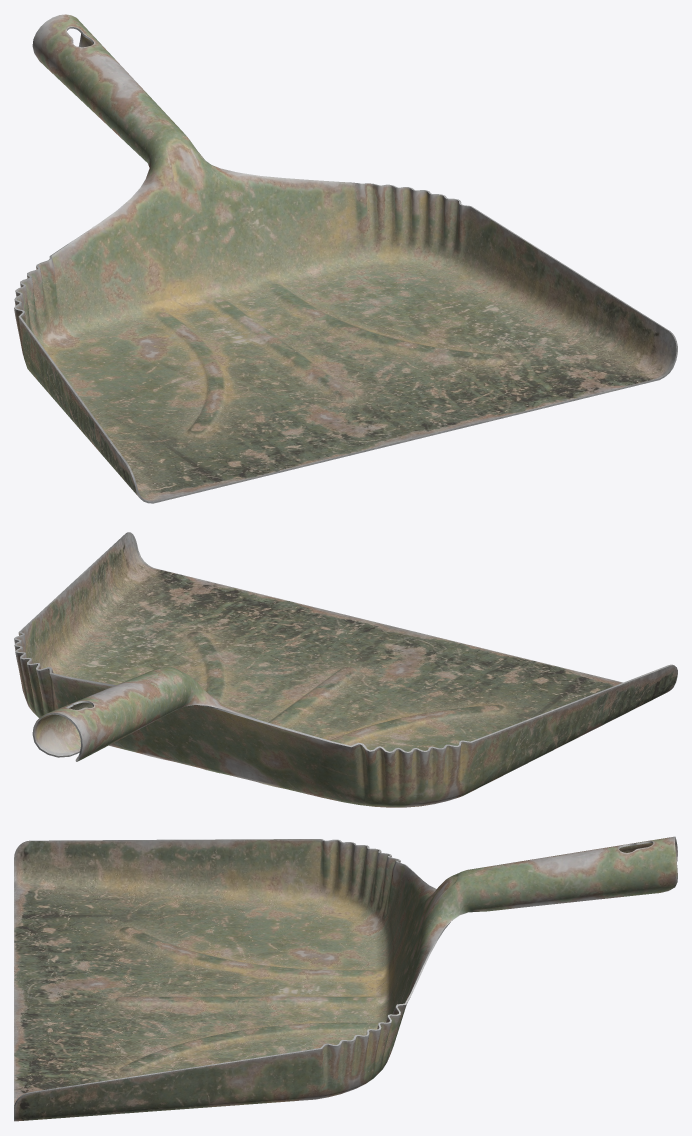
File: ph_dustpan.glb
The picture shows the model from 3 angles, top to bottom: view 1: azimuth 30°, elevation 25°; view 2: azimuth 150°, elevation 25°; view 3: azimuth 270°, elevation 25°; orthographic projection. The views are drawn at different scales.
Parts seen in each view (by area): view 1: ph_dustpan; view 2: ph_dustpan; view 3: ph_dustpan.
Boxes of the visible parts, x1,y1,x2,y2 form: ph_dustpan: (14, 14, 677, 503); ph_dustpan: (14, 532, 677, 807); ph_dustpan: (14, 836, 677, 1121).
Size of the model in its own units: 0.3321 by 0.1003 by 0.368.
Materials: 1 (1 with a texture image).
